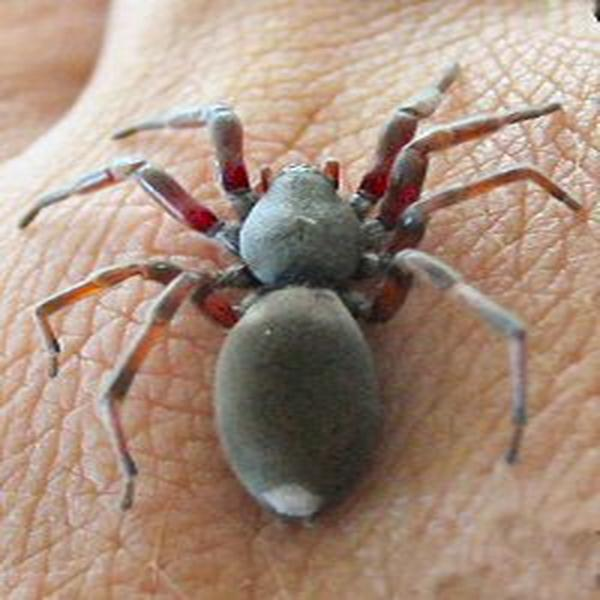White-Tailed Spider: (44, 68, 566, 523)
